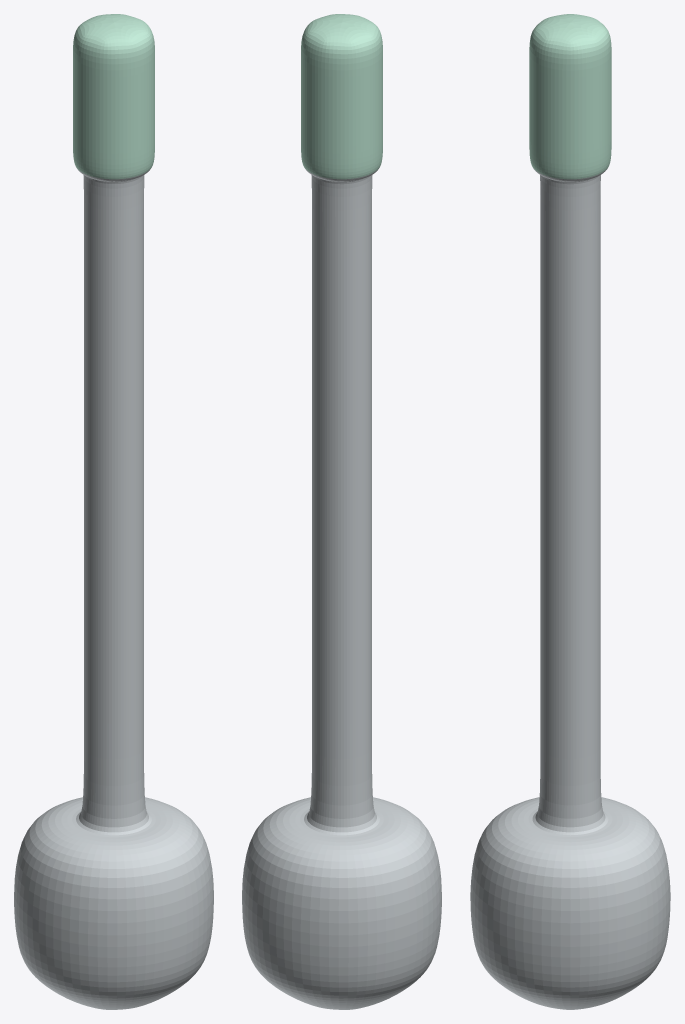
File: ToilBrush.fbx
3 views of the same model, side by side, from view 1: azimuth 30°, elevation 25°; view 2: azimuth 150°, elevation 25°; view 3: azimuth 270°, elevation 25° (orthographic).
Visible parts, largest first — view 1: Cylinder; view 2: Cylinder; view 3: Cylinder.
Boxes of the visible parts, x1=… form: Cylinder: x1=14, y1=14, x2=213, y2=1009; Cylinder: x1=242, y1=14, x2=441, y2=1009; Cylinder: x1=470, y1=14, x2=670, y2=1009.
Size of the model in its own units: 45.4 by 245 by 45.4.
